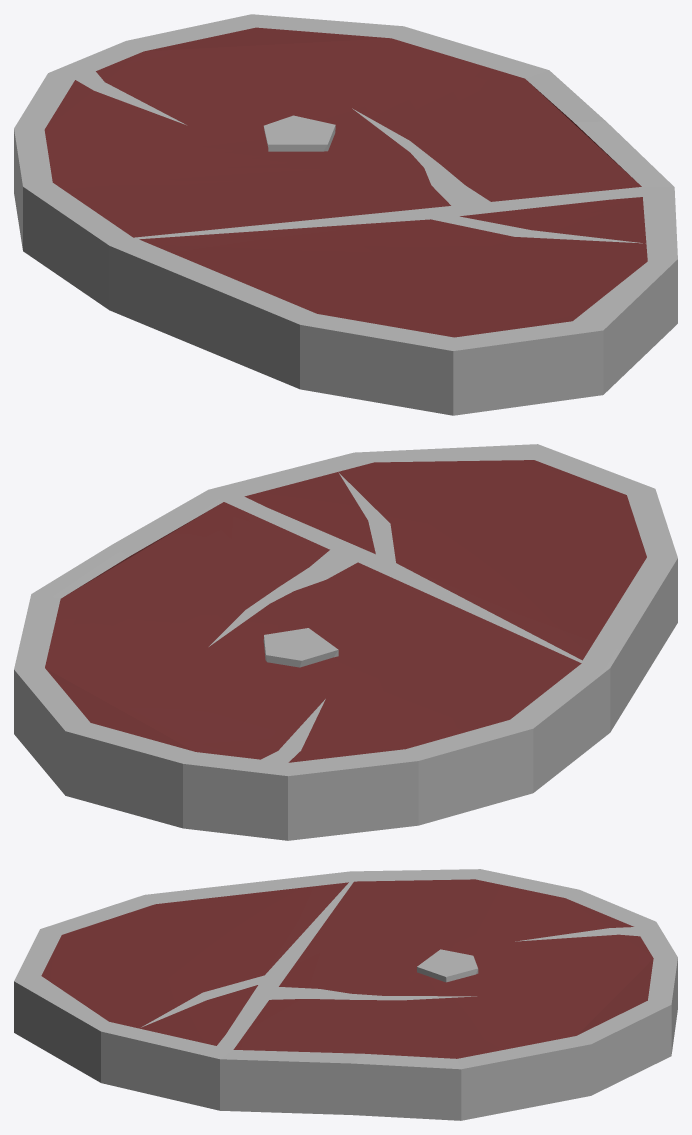
File: SM_Food_Steak_02.fbx
3 renders of one model, top to bottom at view 1: azimuth 30°, elevation 25°; view 2: azimuth 150°, elevation 25°; view 3: azimuth 270°, elevation 25°, orthographic. The views are drawn at different scales.
Parts seen in each view (by area): view 1: SM_Food_Steak_02; view 2: SM_Food_Steak_02; view 3: SM_Food_Steak_02.
Boxes of the visible parts, x1=… form: SM_Food_Steak_02: x1=14, y1=14, x2=677, y2=415; SM_Food_Steak_02: x1=14, y1=444, x2=677, y2=840; SM_Food_Steak_02: x1=14, y1=869, x2=677, y2=1120.
Size of the model in its own units: 0.1995 by 0.0294 by 0.2797.
